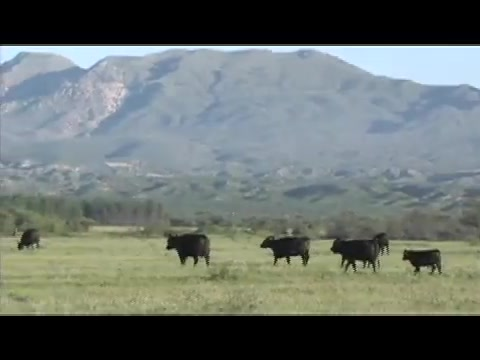cow: (330, 239, 384, 272), (166, 233, 212, 271), (260, 236, 313, 267), (402, 248, 444, 276), (17, 229, 43, 252), (376, 232, 393, 256)
